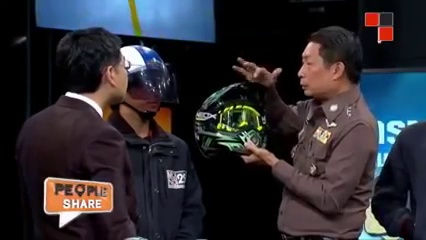helmet: (195, 82, 271, 158), (122, 37, 176, 100)
